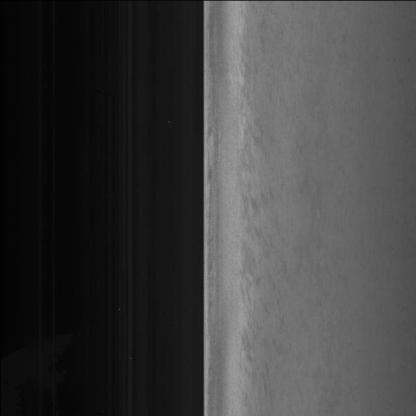silk_spot: (240, 156, 272, 266)
